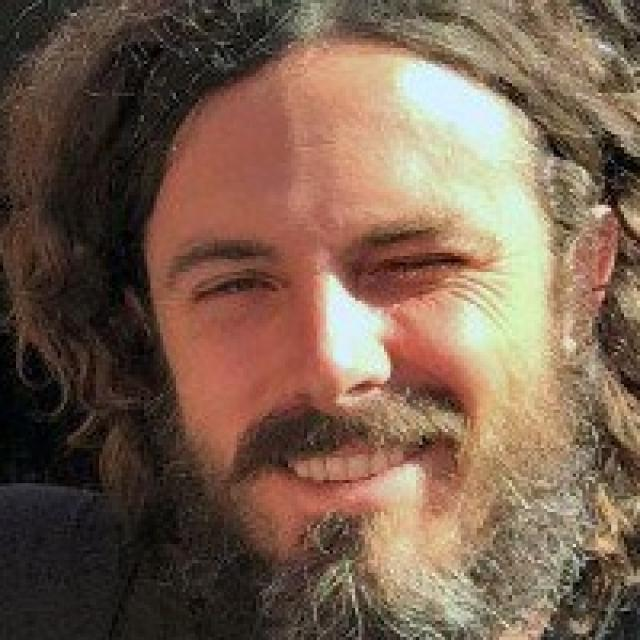Normal: (143, 34, 574, 598)
